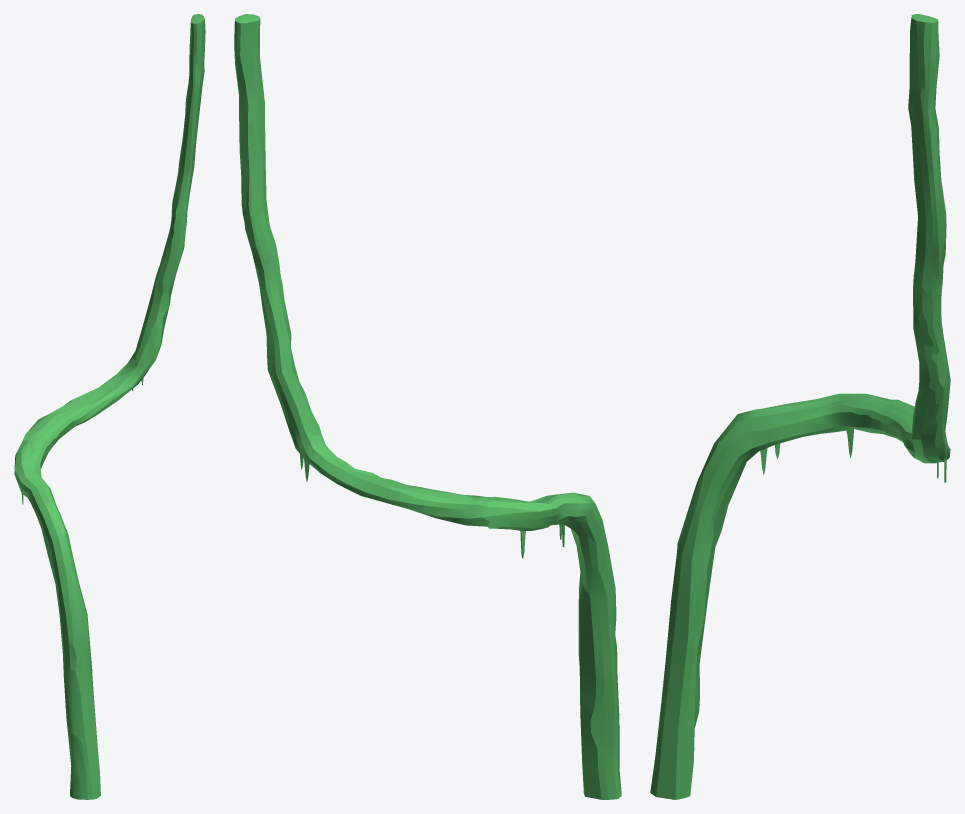
File: jungle_trunk_F.fbx
3 views of the same model, side by side, from view 1: azimuth 30°, elevation 25°; view 2: azimuth 150°, elevation 25°; view 3: azimuth 270°, elevation 25° (orthographic). The views are drawn at different scales.
Visible parts, largest first — view 1: jungle_trunk_F; view 2: jungle_trunk_F; view 3: jungle_trunk_F.
Part boxes in pixels (box(x1,y1,x2,y2)): jungle_trunk_F: box(14, 14, 205, 799); jungle_trunk_F: box(234, 14, 621, 799); jungle_trunk_F: box(650, 14, 950, 799).
Size of the model in its own units: 507 by 1394 by 417.
